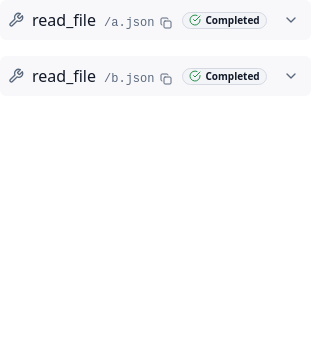
ChatMessageRenderer tool expansion › toggles a card via the header icon; multiple cards expand independently
Expected: the text "alpha-result-body" is not shown
Click the button named "expandToolDetails" in the row of "/a.json" at [291, 20], box [279,8,303,32]
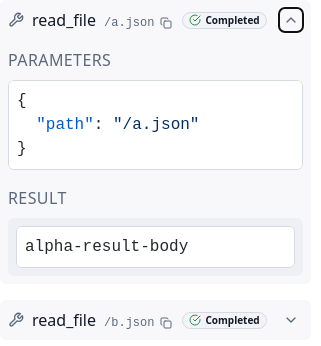
Expected: the text "alpha-result-body" is shown, [25,238,188,256]
Expected: the button named "expandToolDetails" is expanded
Click the button named "expandToolDetails" at [291, 20], box [279,8,303,32]
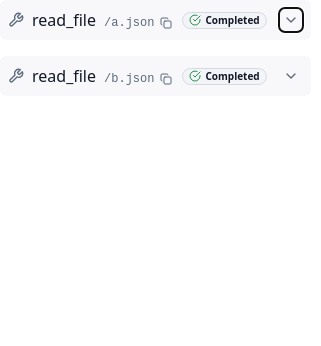
Expected: the text "alpha-result-body" is gone
Expected: the button named "expandToolDetails" in the row of "/a.json" is collapsed, [279,8,303,32]
